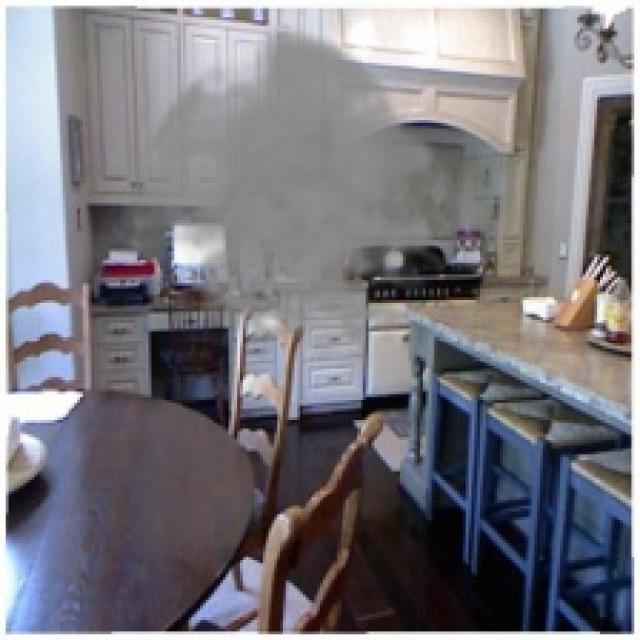Smoke: (114, 23, 469, 366)
